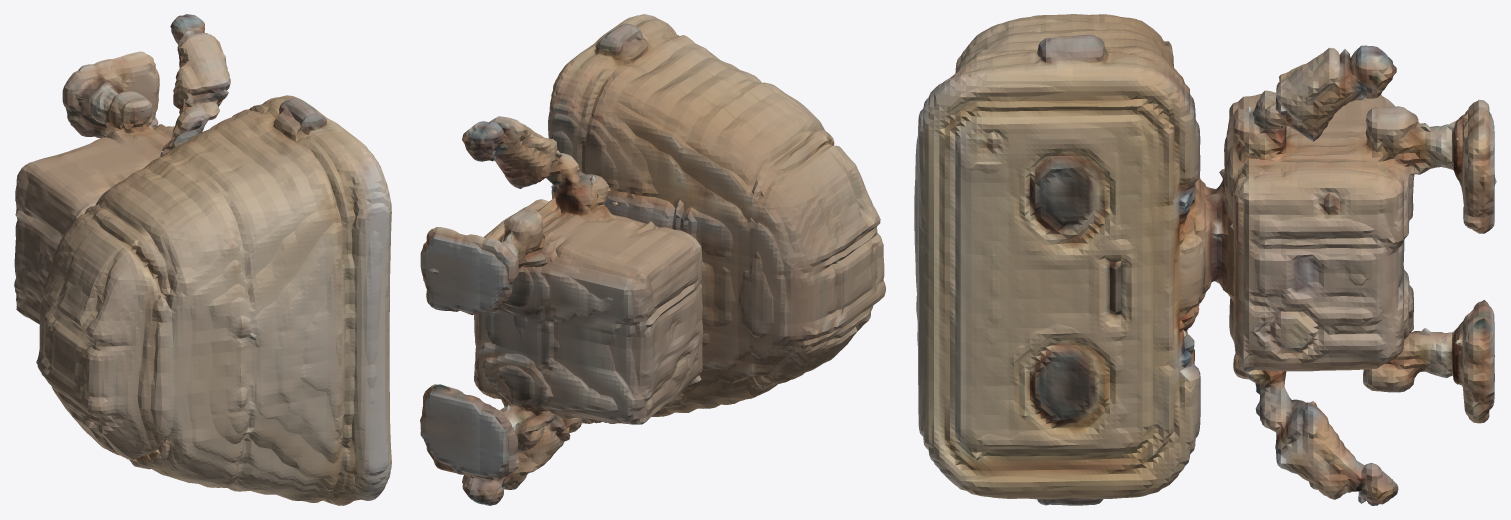
Rendered from humanoid_output.glb.
3 renders of one model, left to right at view 1: azimuth 30°, elevation 25°; view 2: azimuth 150°, elevation 25°; view 3: azimuth 270°, elevation 25°, orthographic. The views are drawn at different scales.
Visible parts, largest first — view 1: world; view 2: world; view 3: world.
Part boxes in pixels (bbox=[...]): world: bbox=[14, 14, 391, 505]; world: bbox=[420, 14, 885, 505]; world: bbox=[914, 14, 1496, 505].
Size of the model in its own units: 0.662 by 0.8771 by 0.9931.
